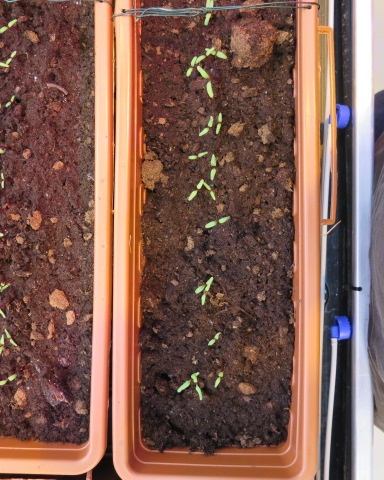crop: (193, 276, 221, 308), (195, 64, 215, 99), (203, 213, 231, 230), (178, 371, 200, 391), (186, 179, 203, 202), (204, 46, 230, 61), (197, 114, 213, 137), (191, 375, 205, 401), (185, 148, 210, 161), (195, 46, 215, 62), (1, 17, 20, 33), (3, 329, 18, 349), (203, 182, 217, 203), (208, 152, 218, 181), (4, 50, 22, 66), (205, 331, 222, 347), (214, 110, 223, 136), (1, 374, 20, 386), (3, 93, 18, 108), (185, 56, 196, 76), (214, 370, 225, 388), (1, 172, 7, 189)
